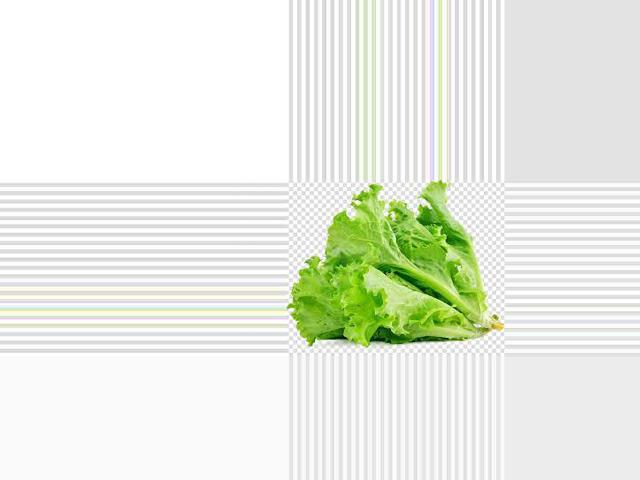lettuce: (314, 198, 452, 362)
